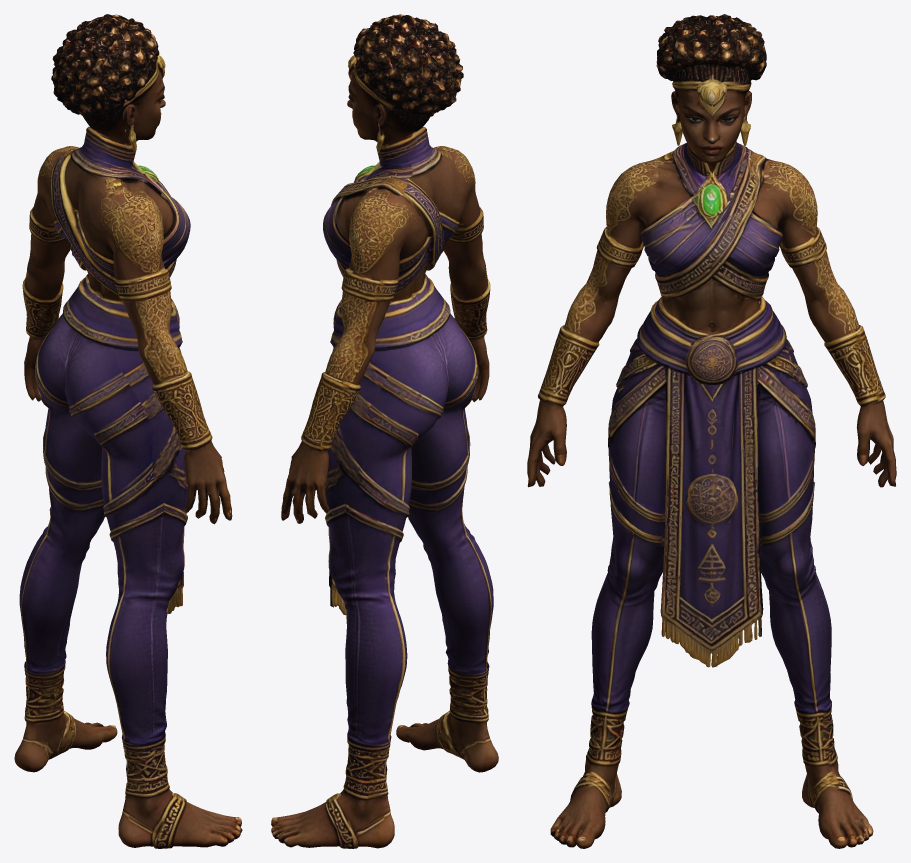
Rendered from kimaya.glb.
3 renders of one model, left to right at view 1: azimuth 30°, elevation 25°; view 2: azimuth 150°, elevation 25°; view 3: azimuth 270°, elevation 25°, orthographic. The views are drawn at different scales.
Parts seen in each view (by area): view 1: tripo_node_843dad61-ea41-45ed-8925-aa56806db88f; view 2: tripo_node_843dad61-ea41-45ed-8925-aa56806db88f; view 3: tripo_node_843dad61-ea41-45ed-8925-aa56806db88f.
Part boxes in pixels (<box>): tripo_node_843dad61-ea41-45ed-8925-aa56806db88f: <box>14,14,242,848</box>; tripo_node_843dad61-ea41-45ed-8925-aa56806db88f: <box>271,14,498,848</box>; tripo_node_843dad61-ea41-45ed-8925-aa56806db88f: <box>527,14,896,848</box>.
Bounding box in the file's own units: 0.1637 × 1 × 0.4168.
1 material, 1 textured.
